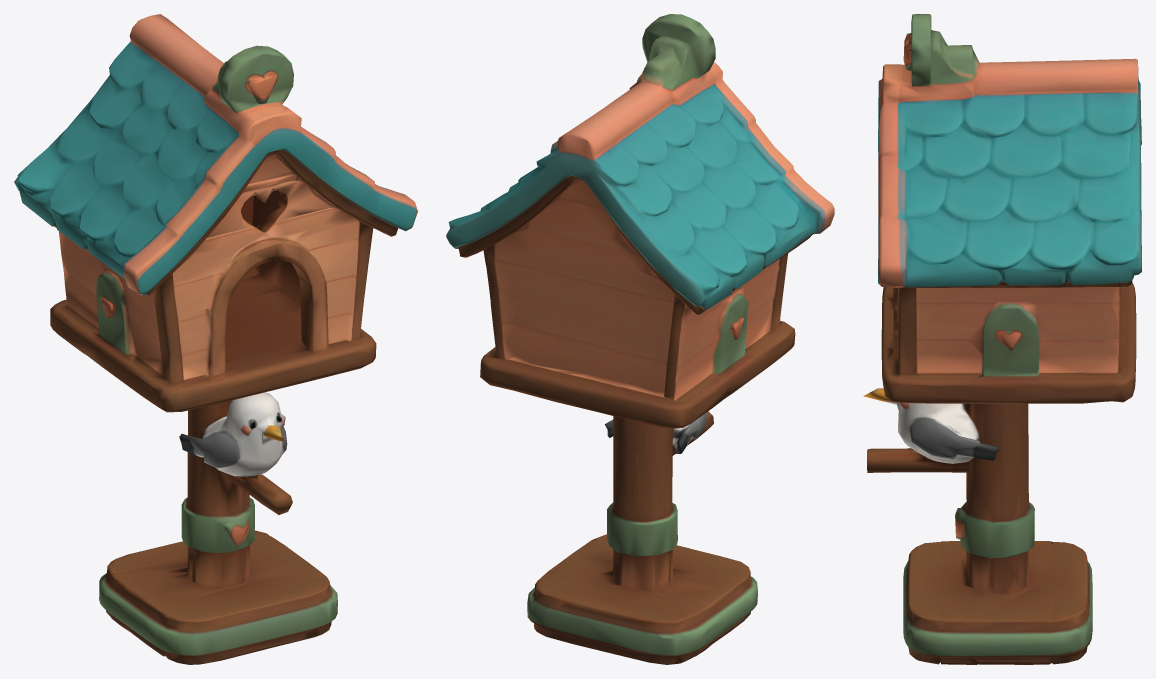
The model's file is cartoon birdhouse 3d model.glb.
The picture shows the model from 3 angles, left to right: view 1: azimuth 30°, elevation 25°; view 2: azimuth 150°, elevation 25°; view 3: azimuth 270°, elevation 25°; orthographic projection. The views are drawn at different scales.
Parts seen in each view (by area): view 1: tripo_node_9c8cc7b9-0c92-4510-a29d-ad67fa4c7ccd; view 2: tripo_node_9c8cc7b9-0c92-4510-a29d-ad67fa4c7ccd; view 3: tripo_node_9c8cc7b9-0c92-4510-a29d-ad67fa4c7ccd.
Boxes of the visible parts, x1,y1,x2,y2 form: tripo_node_9c8cc7b9-0c92-4510-a29d-ad67fa4c7ccd: (14, 14, 417, 664); tripo_node_9c8cc7b9-0c92-4510-a29d-ad67fa4c7ccd: (446, 14, 834, 664); tripo_node_9c8cc7b9-0c92-4510-a29d-ad67fa4c7ccd: (863, 14, 1141, 664).
Bounding box in the file's own units: 0.4989 × 1 × 0.4164.
1 material, 1 textured.
